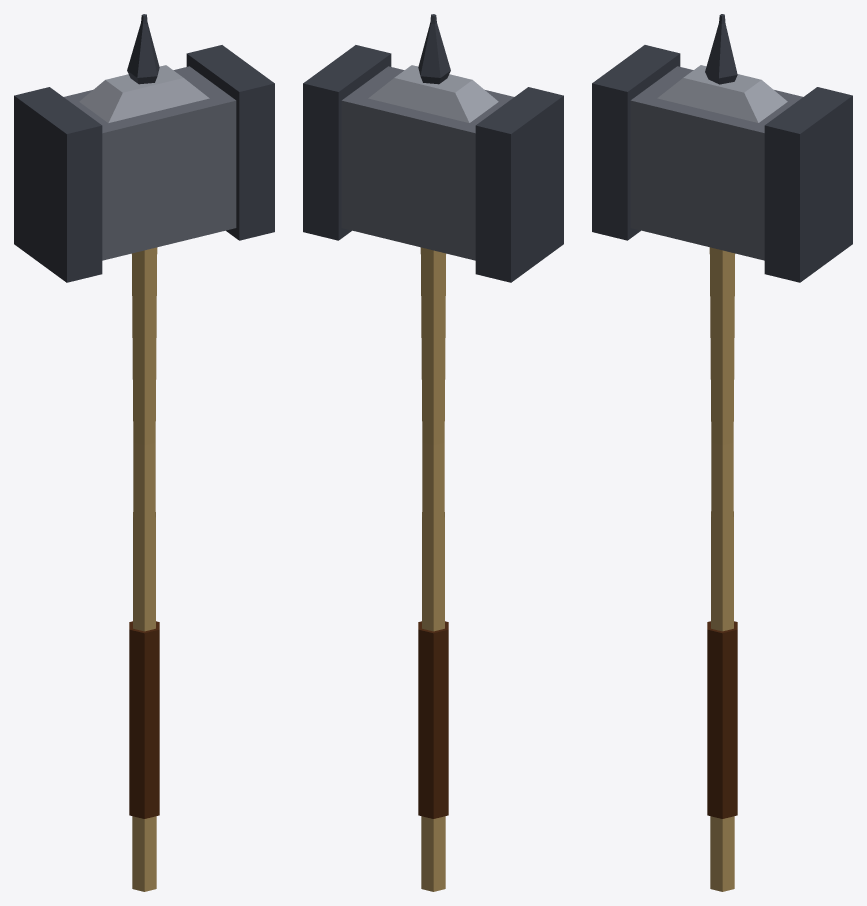
File: wpn_melee_2h_3.glb
3 views of the same model, side by side, from view 1: azimuth 30°, elevation 25°; view 2: azimuth 150°, elevation 25°; view 3: azimuth 330°, elevation 25° (orthographic).
Parts seen in each view (by area): view 1: wpn_melee_2h_3; view 2: wpn_melee_2h_3; view 3: wpn_melee_2h_3.
Boxes of the visible parts, x1,y1,x2,y2 form: wpn_melee_2h_3: [14, 14, 274, 891]; wpn_melee_2h_3: [303, 14, 563, 891]; wpn_melee_2h_3: [592, 14, 852, 891].
Size of the model in its own units: 0.41 by 1.64 by 0.18.
